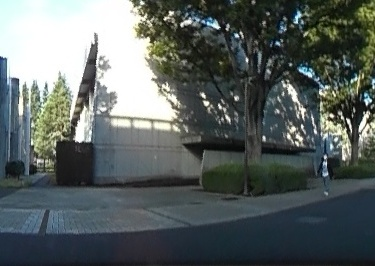person: (318, 150, 334, 196)
